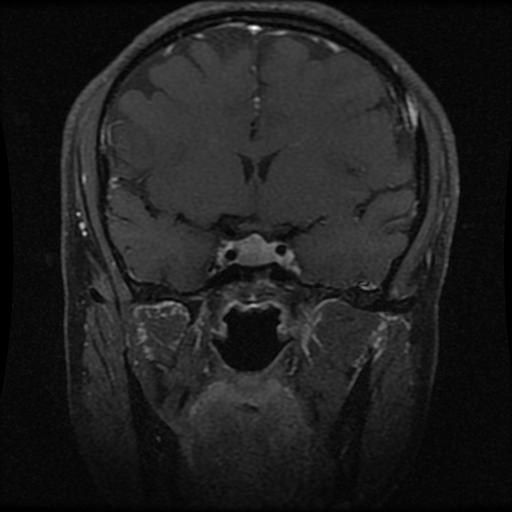Pituirity_tumour: (239, 233, 274, 264)
